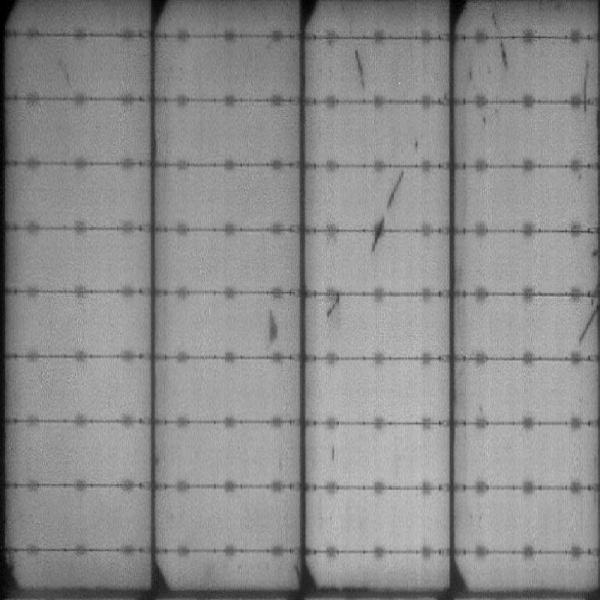scratch: (368, 170, 404, 258), (490, 9, 512, 73), (574, 301, 599, 342), (349, 45, 368, 91), (581, 53, 593, 116), (321, 294, 340, 322)
